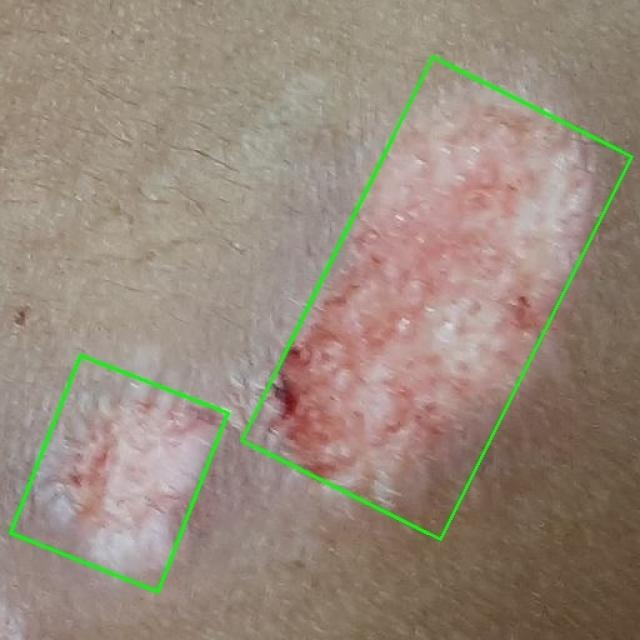Eczema: (241, 57, 632, 540), (11, 356, 228, 592)
